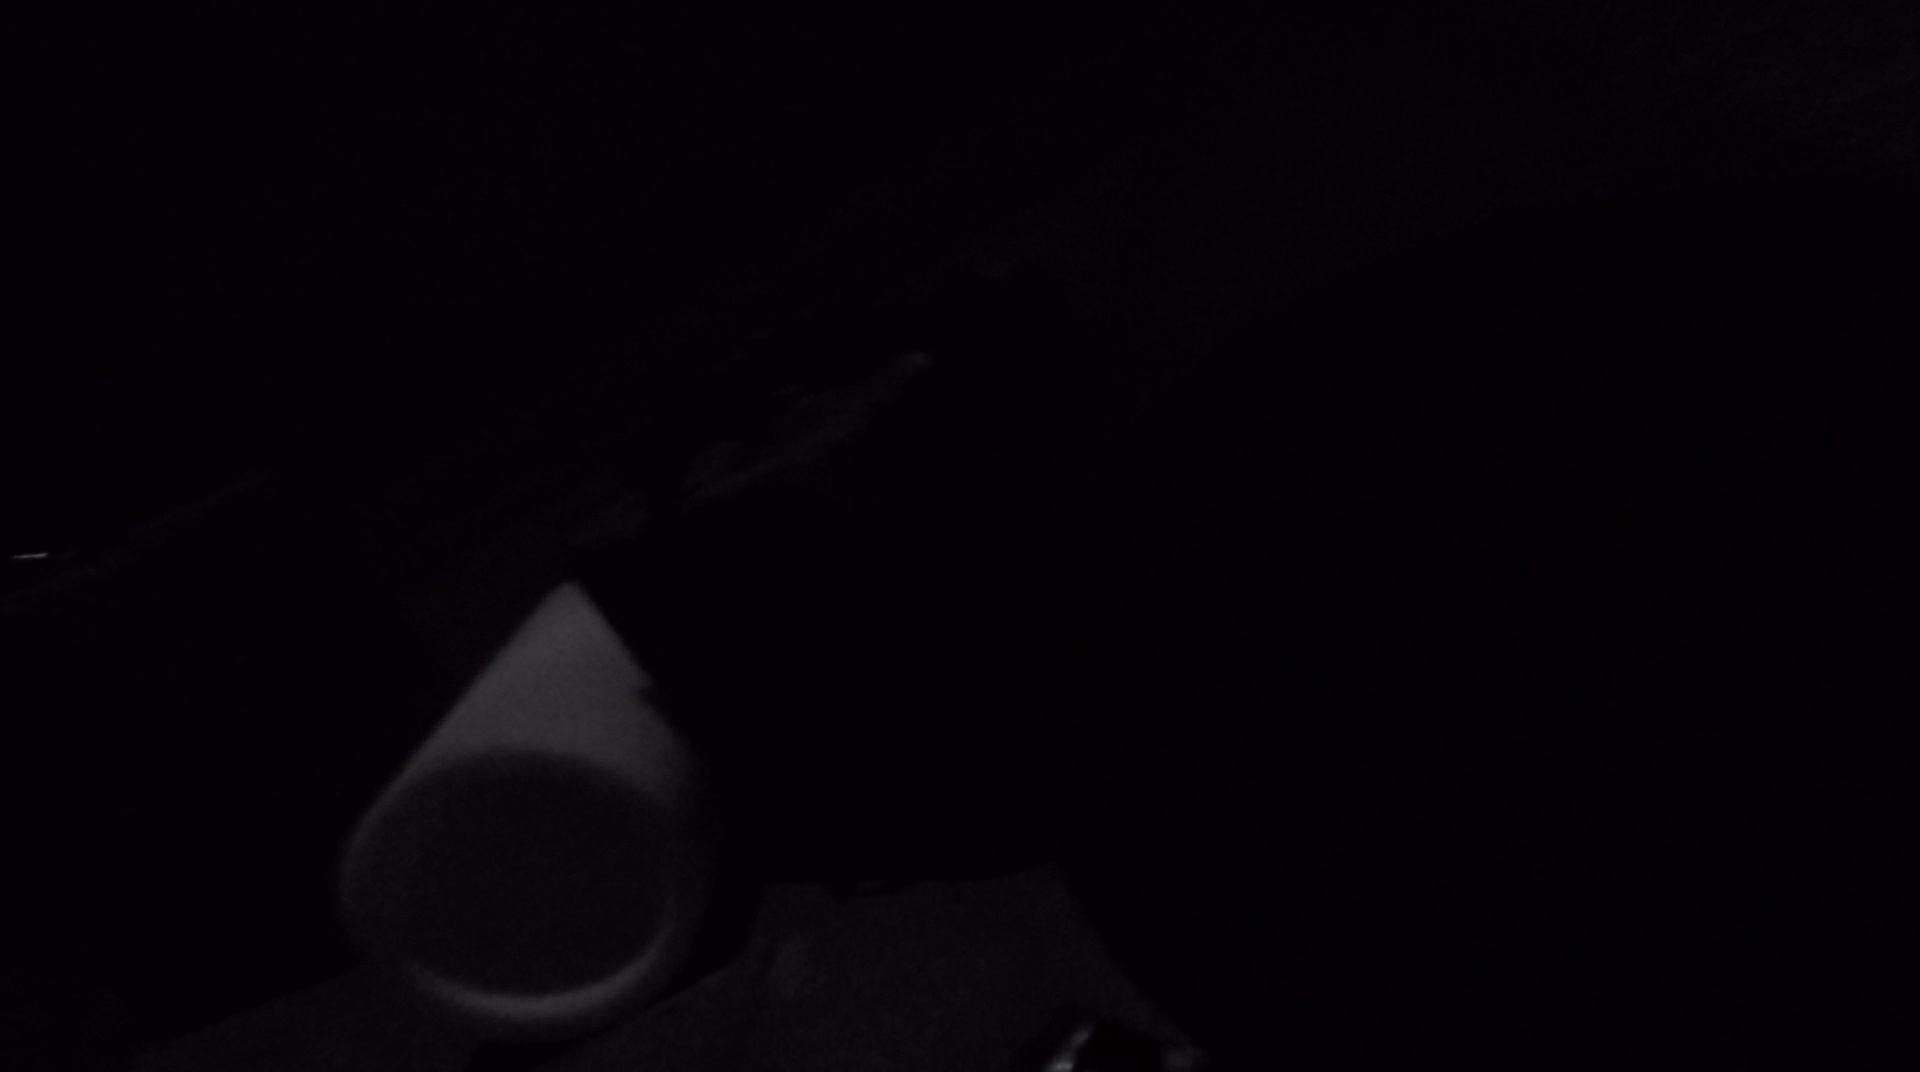led_block: (554, 356, 1054, 895)
nut: (1034, 1003, 1192, 1072)
pipe: (331, 585, 725, 1032)
